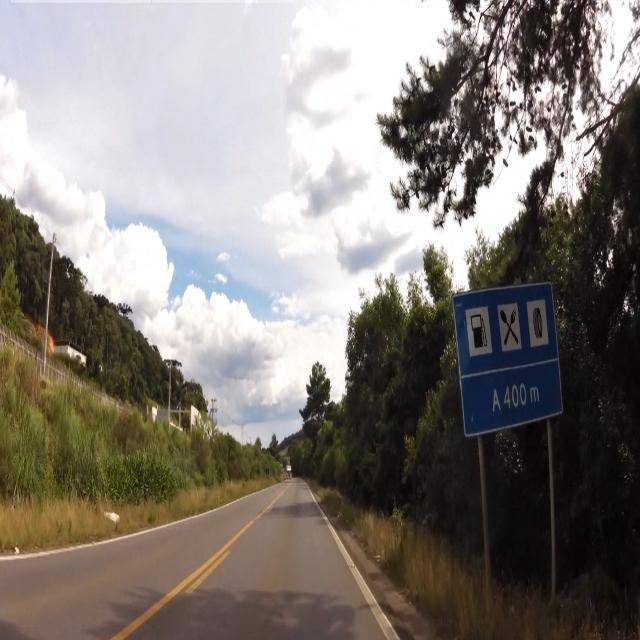LOC-6: (448, 283, 572, 428)
